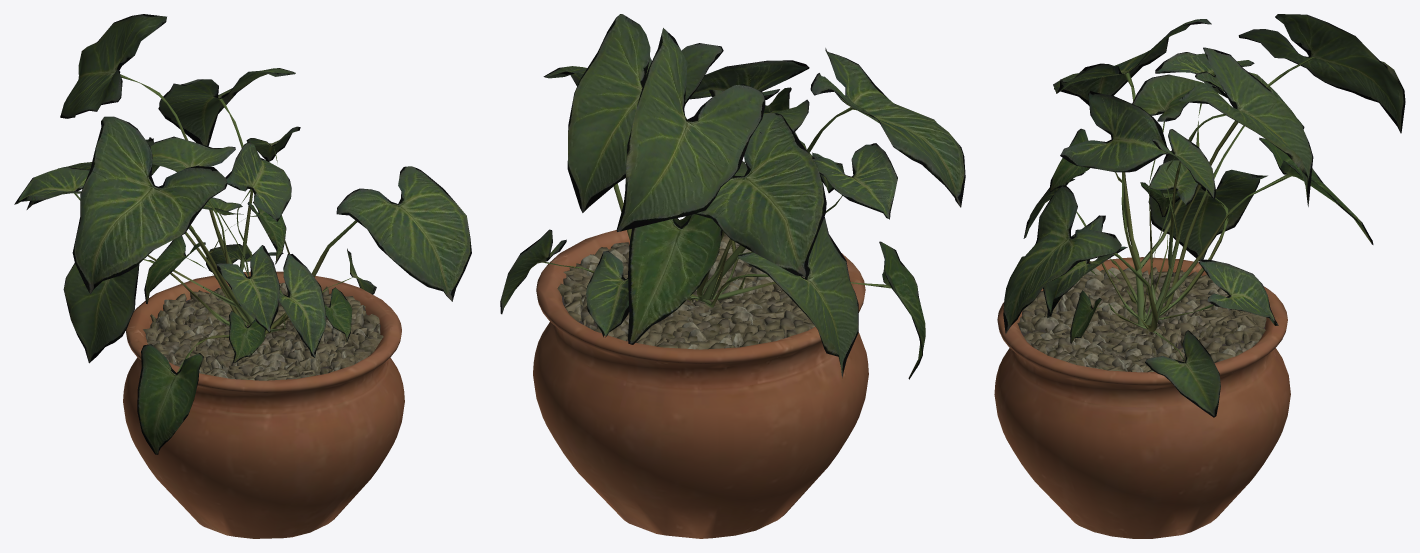
Rendered from potted_plant_02.glb.
The picture shows the model from 3 angles, left to right: view 1: azimuth 30°, elevation 25°; view 2: azimuth 150°, elevation 25°; view 3: azimuth 270°, elevation 25°; orthographic projection. The views are drawn at different scales.
Visible parts, largest first — view 1: potted_plant_02_leaves, potted_plant_02_pot; view 2: potted_plant_02_leaves, potted_plant_02_pot; view 3: potted_plant_02_pot, potted_plant_02_leaves.
Boxes of the visible parts, x1=… form: potted_plant_02_leaves: x1=14, y1=14, x2=471, y2=454; potted_plant_02_pot: x1=123, y1=271, x2=404, y2=538; potted_plant_02_leaves: x1=500, y1=14, x2=965, y2=379; potted_plant_02_pot: x1=533, y1=230, x2=868, y2=538; potted_plant_02_pot: x1=994, y1=257, x2=1290, y2=538; potted_plant_02_leaves: x1=1003, y1=14, x2=1405, y2=417.
Size of the model in its own units: 0.7012 by 0.8401 by 0.6574.
2 materials, 2 textured.
